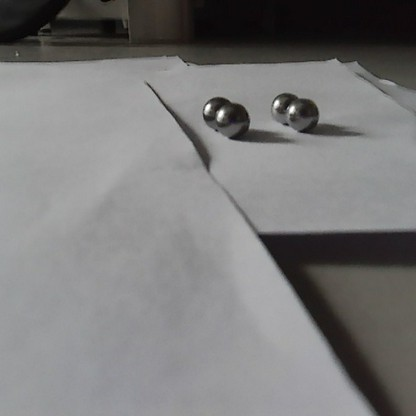ironball: (216, 101, 249, 137), (286, 97, 318, 130), (199, 93, 230, 124), (270, 91, 298, 122)
